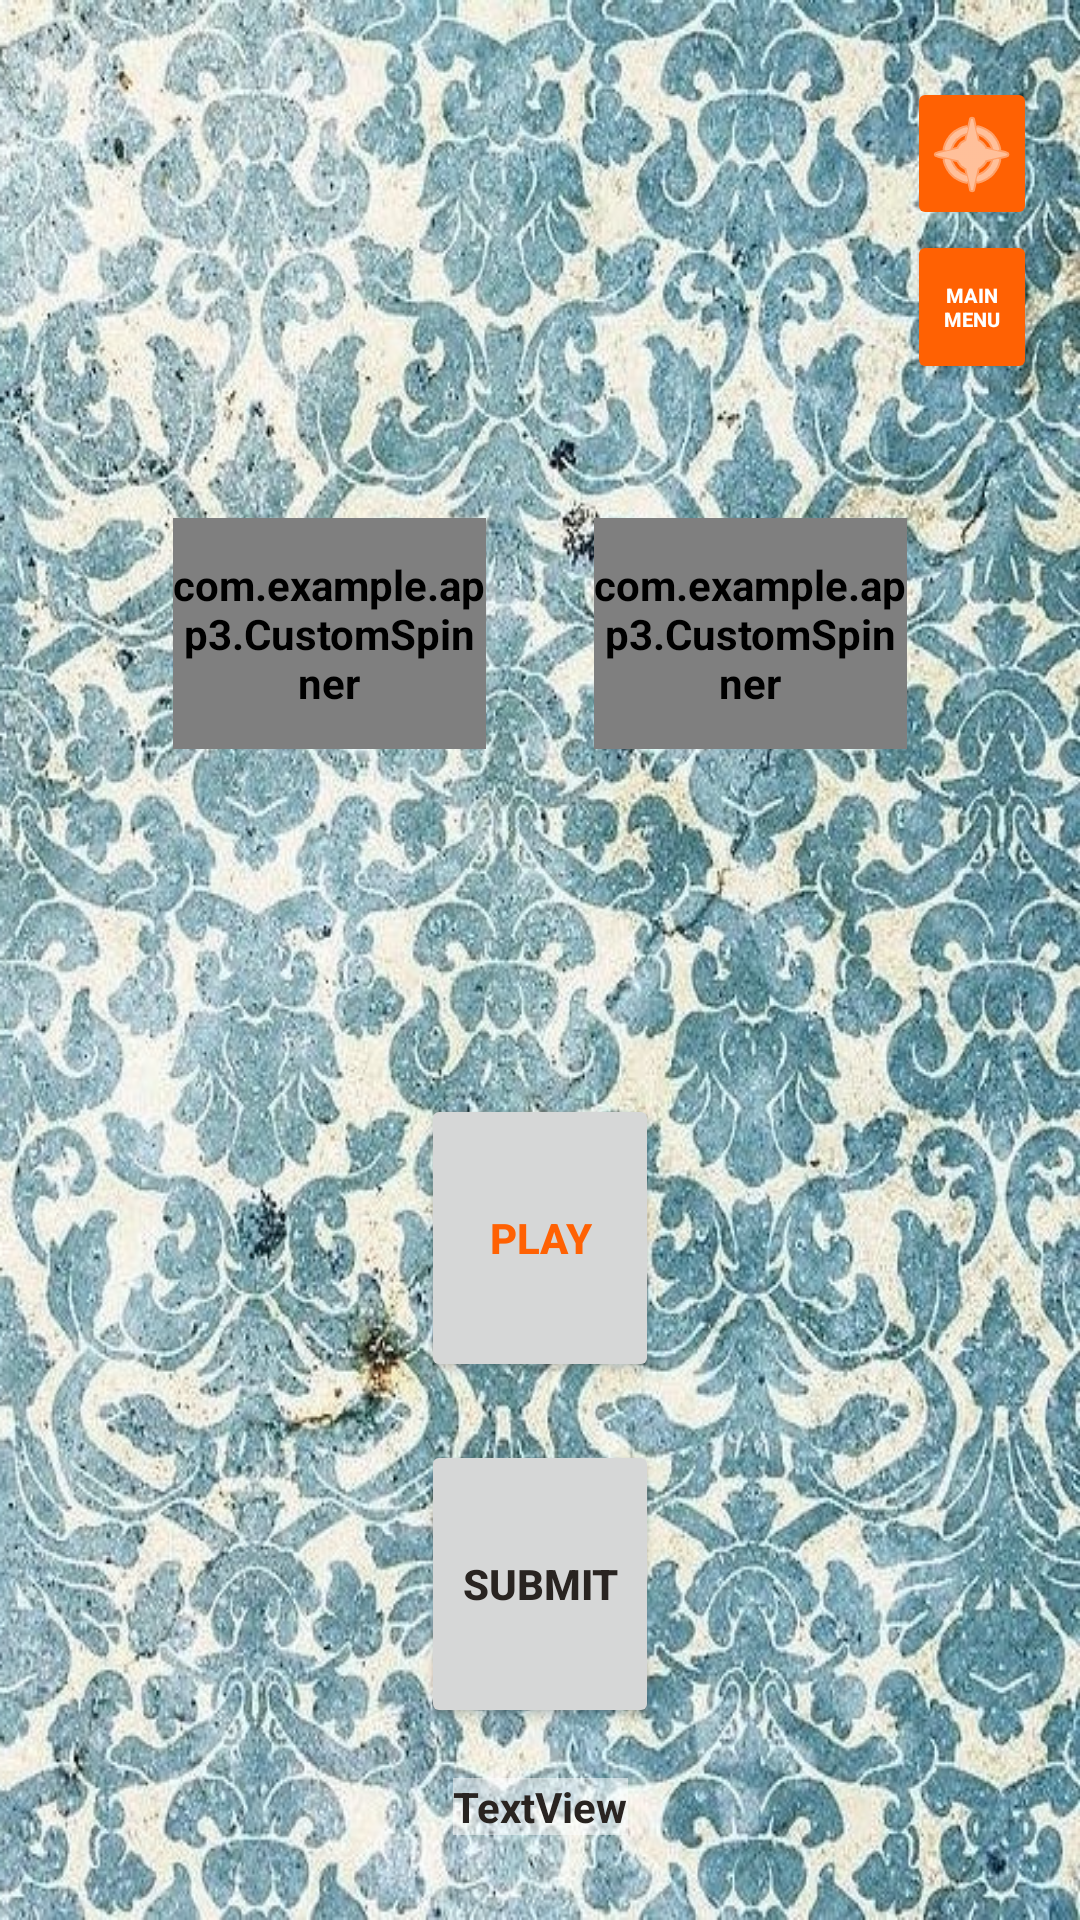

Screen size 1080*1920. Icon name, then its center in pixels as [x,y]:
compass: [972,153]
